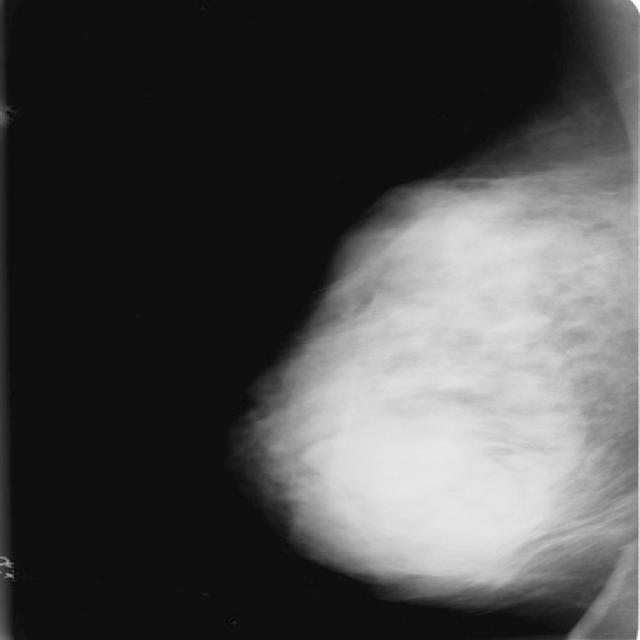tumour: (336, 431, 530, 572)
